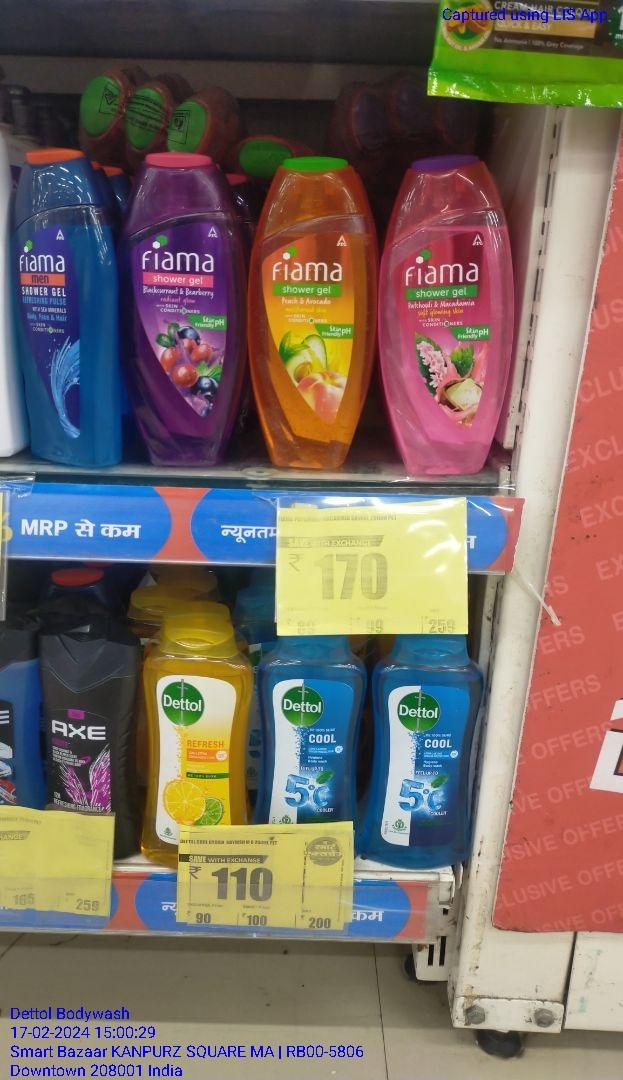Dettol_Bodywash_Cool: (367, 633, 472, 866), (259, 635, 358, 823)
Dettol_Bodywash_Refresh: (141, 608, 243, 866)
Fiama_Shower_Gel_Patchouli_and_Macadamia_250ML: (382, 151, 503, 475)
Fiama_Shower_Gel_Peach_and_Avocado_250ML: (248, 152, 375, 471)
